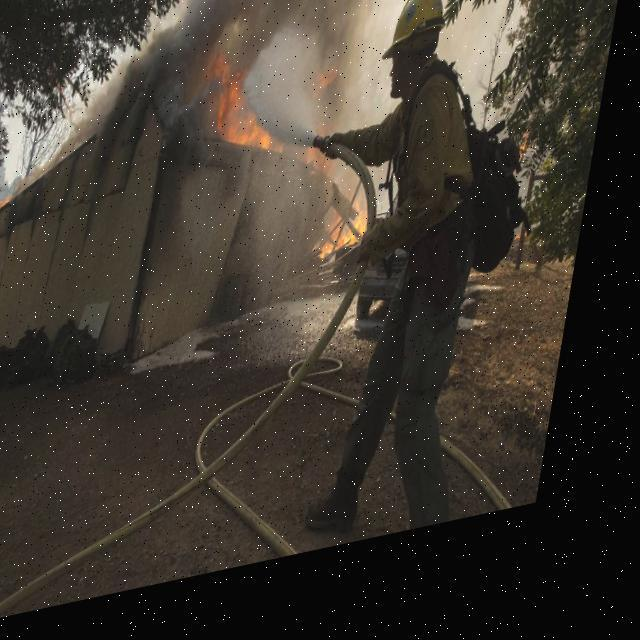Fire: (195, 49, 298, 170), (327, 204, 385, 279), (0, 197, 24, 213)
